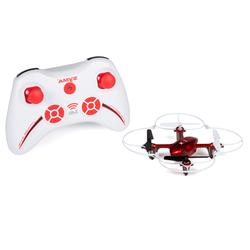drone: (121, 112, 245, 177)
